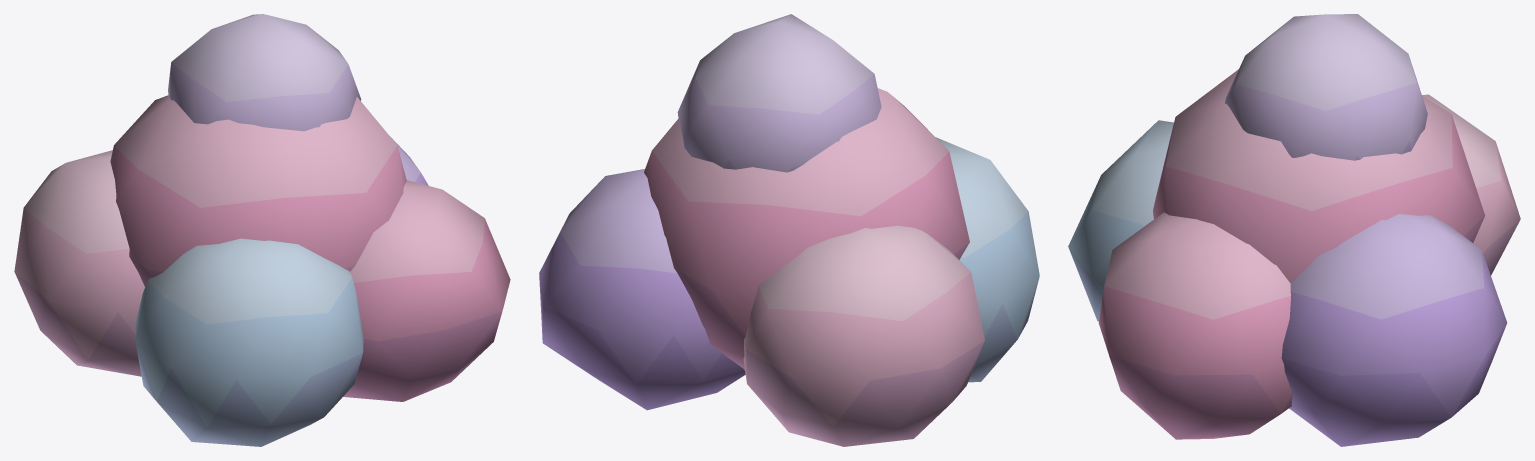
The model's file is candy-hide.glb.
3 renders of one model, left to right at view 1: azimuth 30°, elevation 25°; view 2: azimuth 150°, elevation 25°; view 3: azimuth 270°, elevation 25°, orthographic. The views are drawn at different scales.
Visible parts, largest first — view 1: candy-hide; view 2: candy-hide; view 3: candy-hide.
Boxes of the visible parts, x1=… form: candy-hide: x1=14, y1=14, x2=510, y2=446; candy-hide: x1=539, y1=14, x2=1039, y2=446; candy-hide: x1=1068, y1=14, x2=1520, y2=446.
Size of the model in its own units: 1.38 by 1.22 by 1.3.
